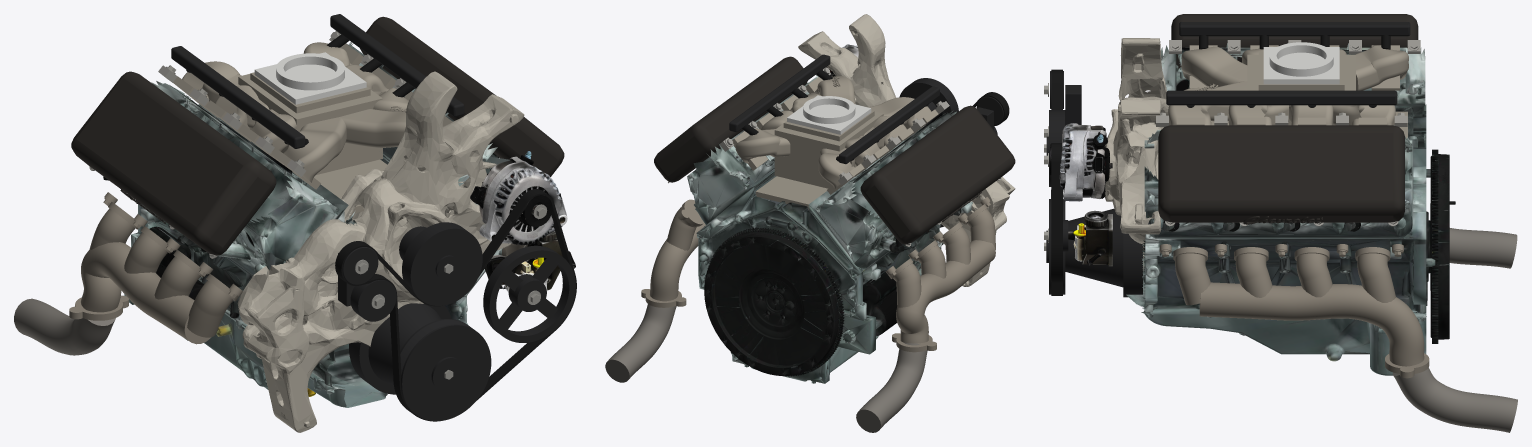
File: k5-engine-ls3.glb
3 views of the same model, side by side, from view 1: azimuth 30°, elevation 25°; view 2: azimuth 150°, elevation 25°; view 3: azimuth 270°, elevation 25° (orthographic). The views are drawn at different scales.
Visible parts, largest first — view 1: midmount_bracket, valve_cover_R, longblock_scan, intake_300-131, header_R, balancer, valve_cover_L, water_pump, alternator_197-302, ps_pulley, belt, tb_adapter (+9 smaller); view 2: longblock_scan, valve_cover_R, intake_300-131, header_R, midmount_bracket, valve_cover_L, header_L, downpipe_R, downpipe_L, tb_adapter, fuel_rail_L, fuel_rail_R (+4 smaller); view 3: longblock_scan, valve_cover_L, header_L, intake_300-131, midmount_bracket, downpipe_L, valve_cover_R, fuel_rail_L, alternator_197-302, balancer, fuel_rail_R, tb_adapter (+7 smaller).
Part boxes in pixels (box(x1,y1,x2,y2)): midmount_bracket: box(237, 71, 524, 432); valve_cover_R: box(71, 71, 276, 255); longblock_scan: box(103, 42, 514, 407); intake_300-131: box(173, 42, 452, 213); header_R: box(69, 192, 242, 344); balancer: box(349, 303, 491, 421); valve_cover_L: box(360, 16, 564, 176); water_pump: box(399, 222, 482, 305); alternator_197-302: box(470, 151, 567, 245); ps_pulley: box(483, 245, 575, 342); belt: box(335, 189, 576, 421); tb_adapter: box(254, 52, 366, 104); longblock_scan: box(687, 75, 977, 383); valve_cover_R: box(860, 105, 1015, 244); intake_300-131: box(732, 76, 938, 209); header_R: box(885, 197, 995, 352); midmount_bracket: box(798, 14, 1015, 286); valve_cover_L: box(654, 56, 807, 182); header_L: box(641, 199, 705, 307); downpipe_R: box(856, 342, 927, 432); downpipe_L: box(605, 298, 676, 382); tb_adapter: box(787, 95, 871, 134); fuel_rail_L: box(729, 54, 830, 132); fuel_rail_R: box(839, 86, 939, 164); longblock_scan: box(1126, 43, 1455, 375); valve_cover_L: box(1158, 125, 1404, 222); header_L: box(1159, 244, 1429, 378); intake_300-131: box(1168, 45, 1408, 138); midmount_bracket: box(1105, 38, 1169, 271); downpipe_L: box(1392, 362, 1517, 432); valve_cover_R: box(1171, 14, 1418, 68); fuel_rail_L: box(1166, 90, 1397, 105); alternator_197-302: box(1049, 123, 1112, 201); balancer: box(1046, 199, 1142, 297); fuel_rail_R: box(1179, 22, 1410, 36); tb_adapter: box(1263, 42, 1339, 84).
Bounding box in the file's own units: 0.7542 × 0.6871 × 0.8719.
Materials: 14 (3 with a texture image).
